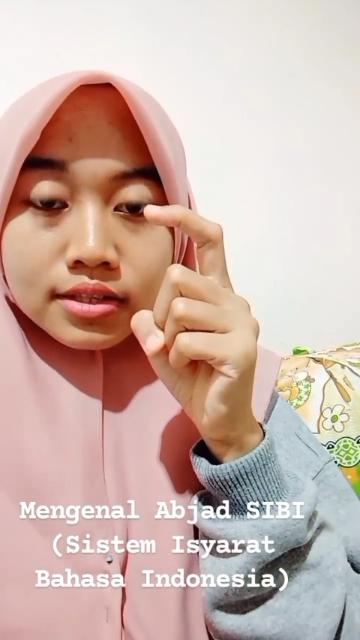X: (134, 194, 264, 426)
